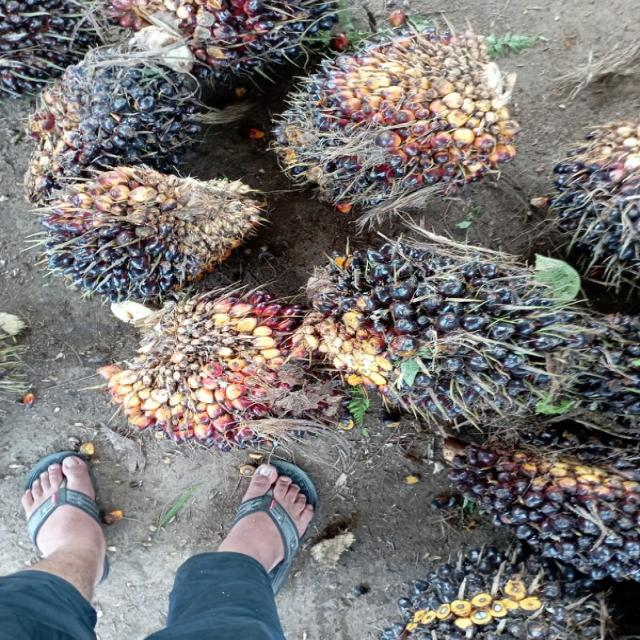fraksi 00: (293, 232, 586, 423), (274, 25, 520, 225), (442, 421, 640, 578), (53, 166, 253, 300), (24, 39, 203, 179), (396, 552, 618, 640)
fraksi 1: (108, 298, 323, 439)
